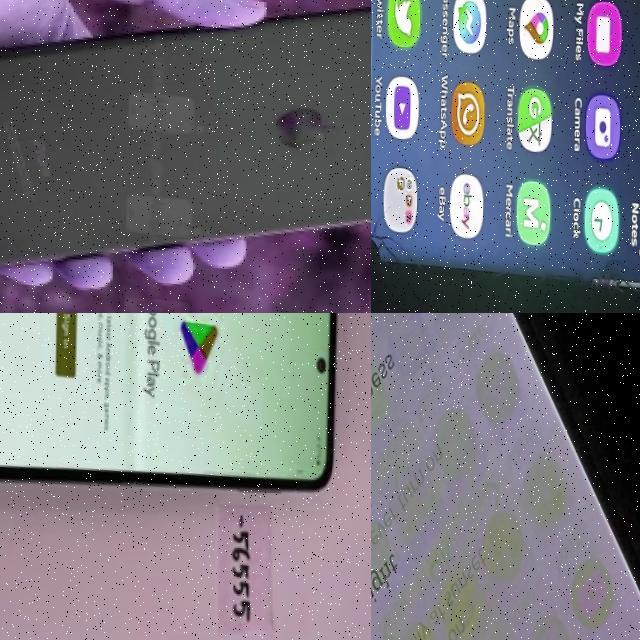dead pixel: (371, 211, 392, 266)
screen crack: (572, 221, 640, 294), (371, 184, 415, 264)
